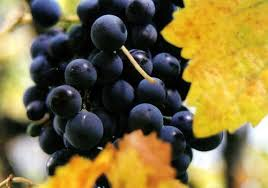Black grapes: (56, 26, 176, 145)
